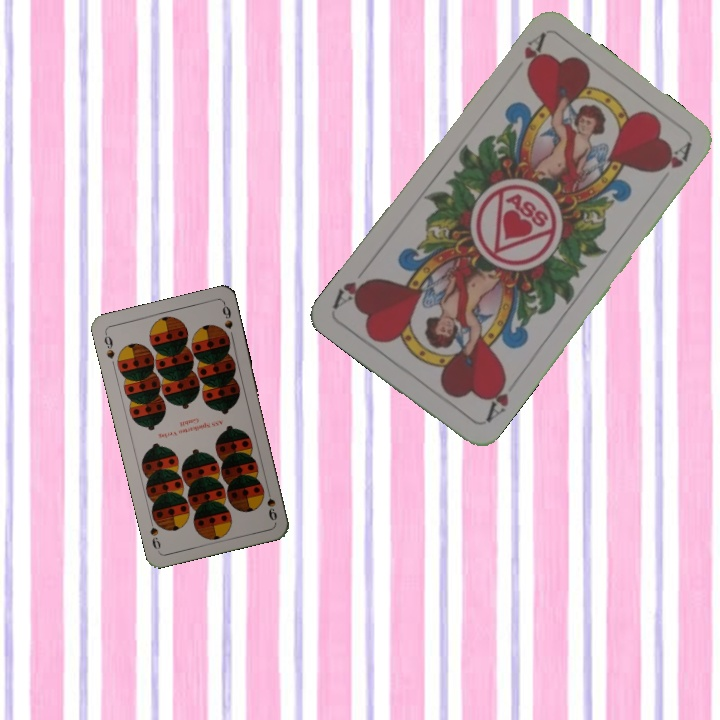HA: (481, 372, 512, 426), (520, 30, 548, 78)
S9: (262, 483, 280, 523), (100, 329, 117, 361)
